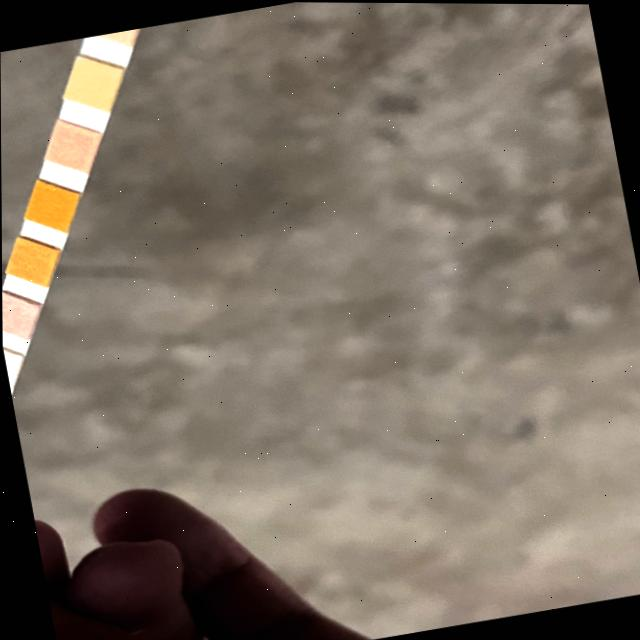Bilirubin: (4, 354, 16, 376)
Blood: (30, 191, 72, 222)
Ketone: (2, 302, 30, 329)
SpGravity: (13, 247, 51, 277)
pH: (70, 66, 116, 101), (52, 130, 93, 164)
